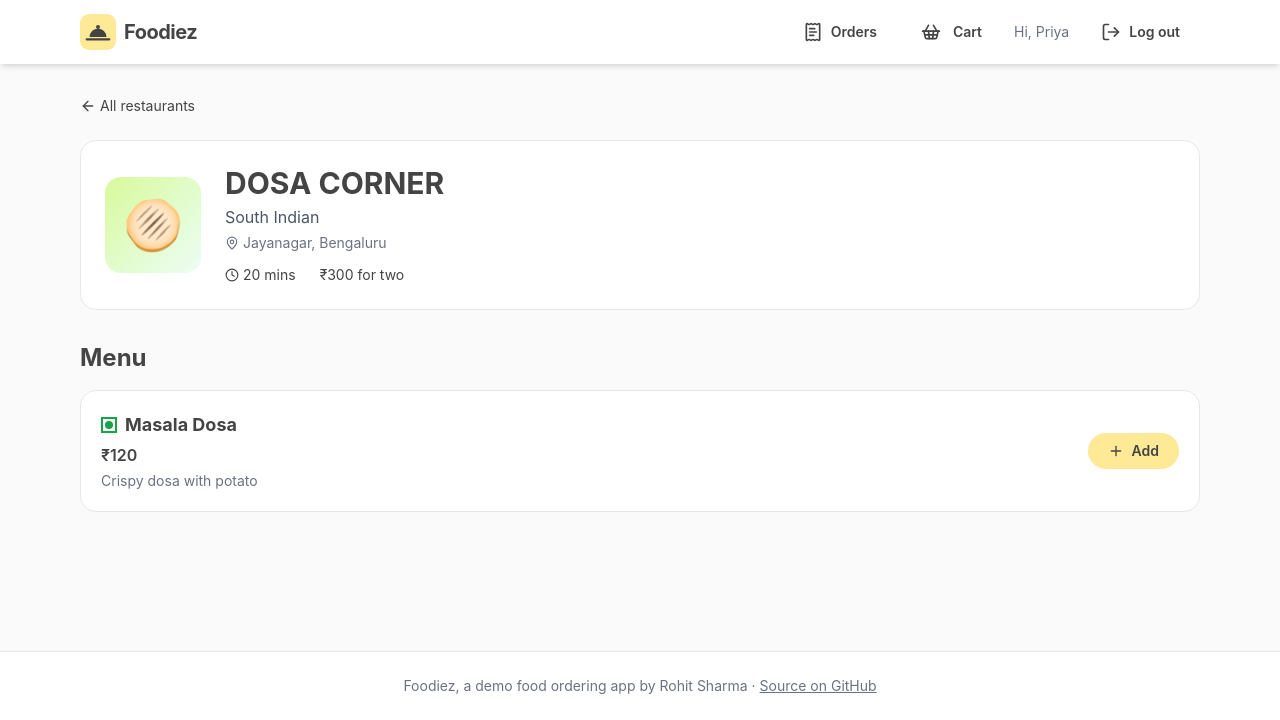
it: restaurant page › lets a customer add a dish and shows the cart bar
Step 1. Click the button "Add" → [1133, 451], box top-left (1088, 433), bottom-right (1179, 469)
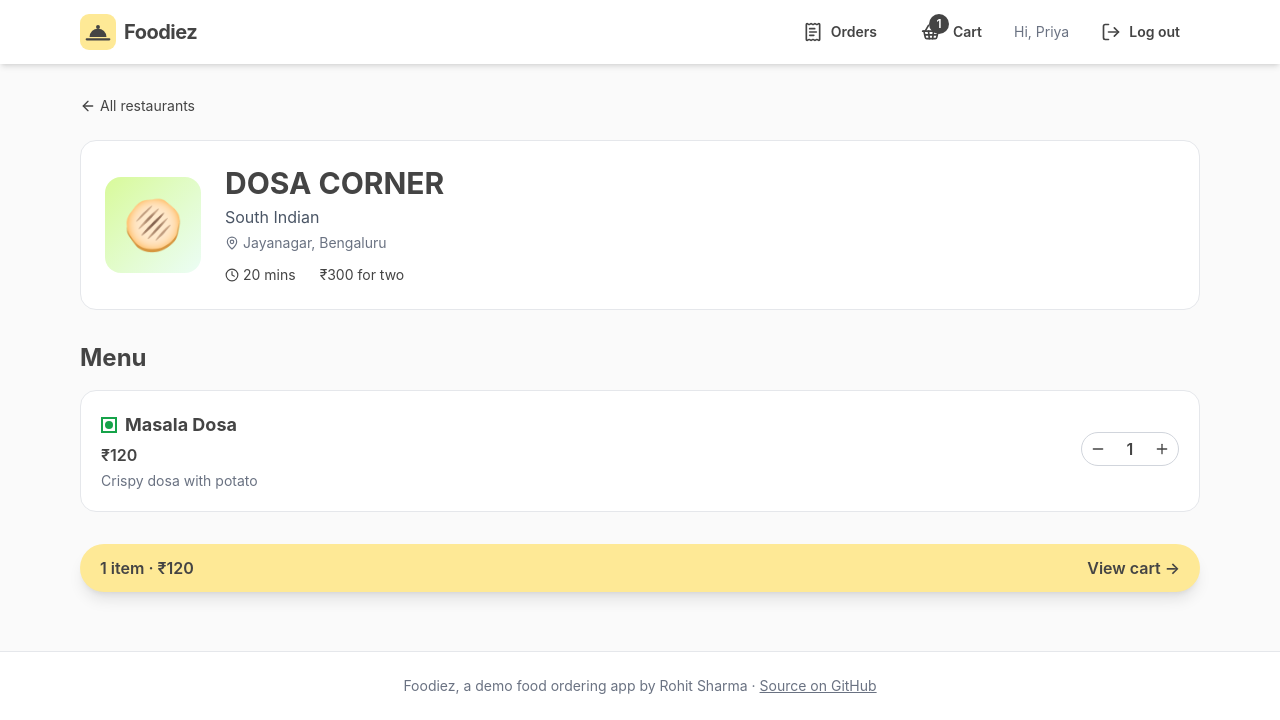
Expected: the button named "One more" is shown, top-left (1146, 432), bottom-right (1178, 464)
Expected: the link "1 item · ₹120 View cart →" is shown, top-left (80, 544), bottom-right (1200, 592)
